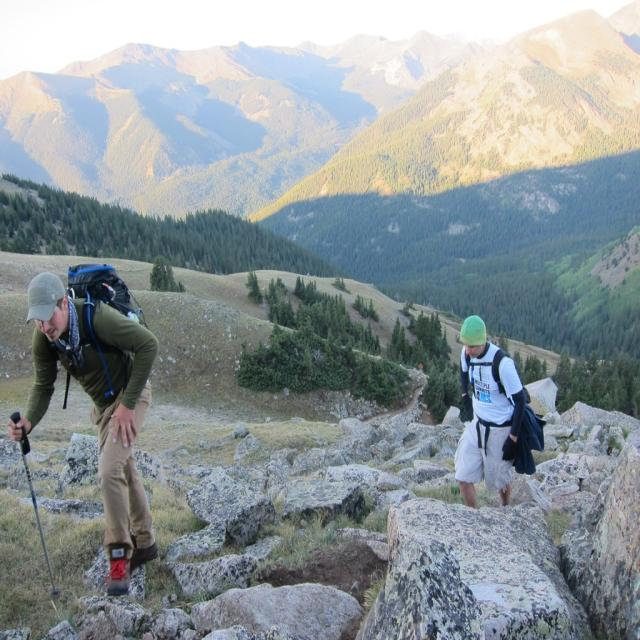backpack: (62, 261, 146, 372), (454, 340, 507, 396)
